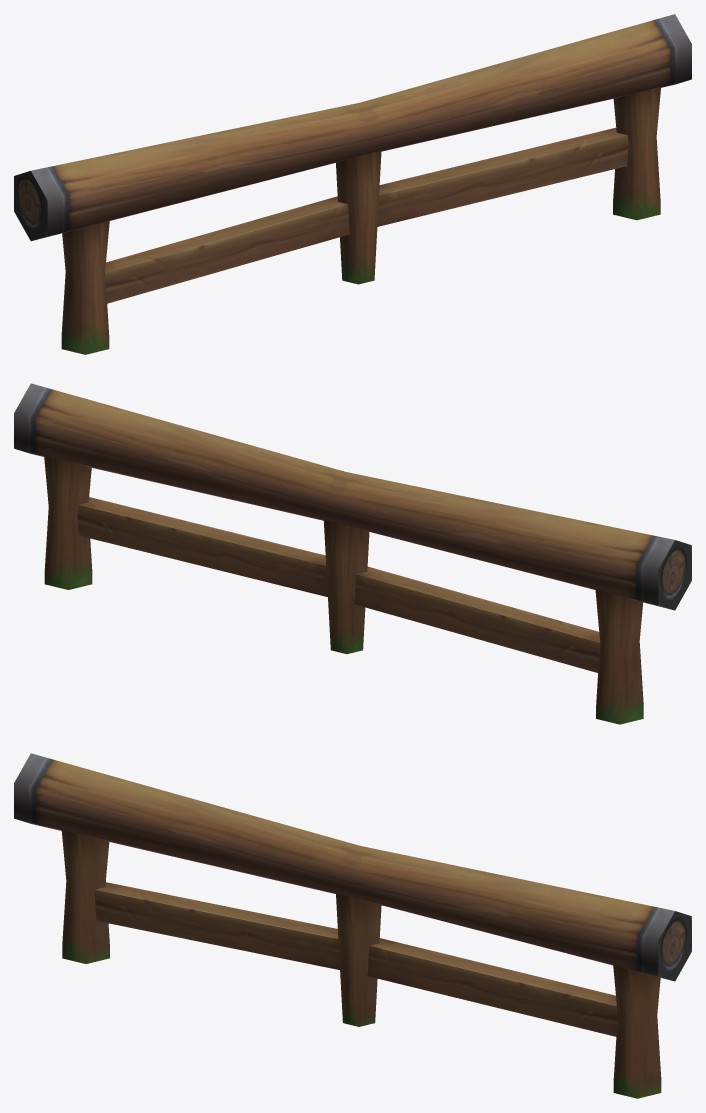
File: scene_shenmisenlin_wl02.FBX
3 views of the same model, one above another, from view 1: azimuth 30°, elevation 25°; view 2: azimuth 150°, elevation 25°; view 3: azimuth 330°, elevation 25° (orthographic).
Parts seen in each view (by area): view 1: scene_shenmisenlin_wl02; view 2: scene_shenmisenlin_wl02; view 3: scene_shenmisenlin_wl02.
Part boxes in pixels (x1,y1,x2,y2): scene_shenmisenlin_wl02: [14, 14, 691, 354]; scene_shenmisenlin_wl02: [14, 383, 691, 724]; scene_shenmisenlin_wl02: [14, 753, 691, 1098].
Size of the model in its own units: 294 by 81.12 by 26.66.
